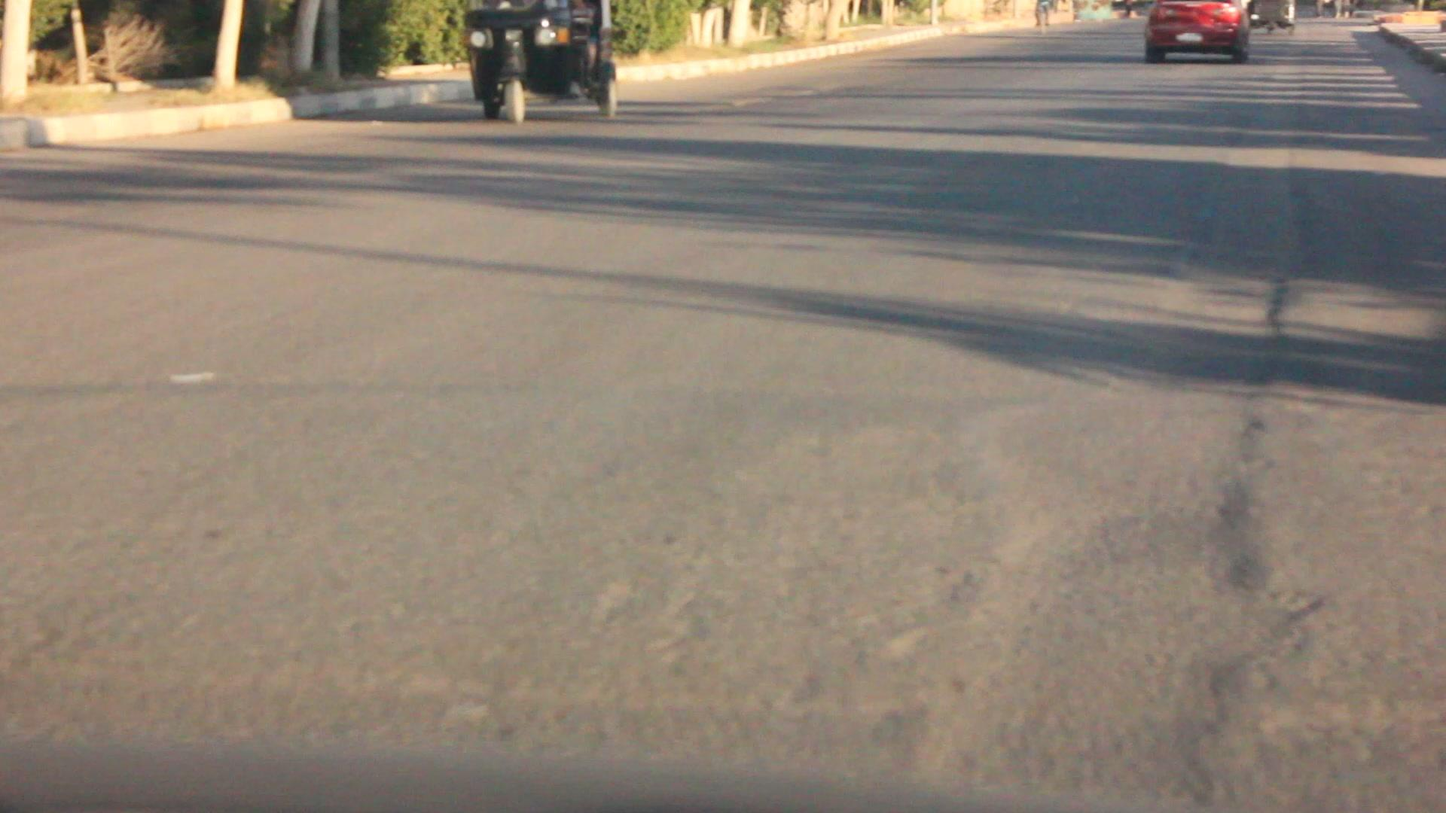Pothole: (1034, 408, 1245, 792)
